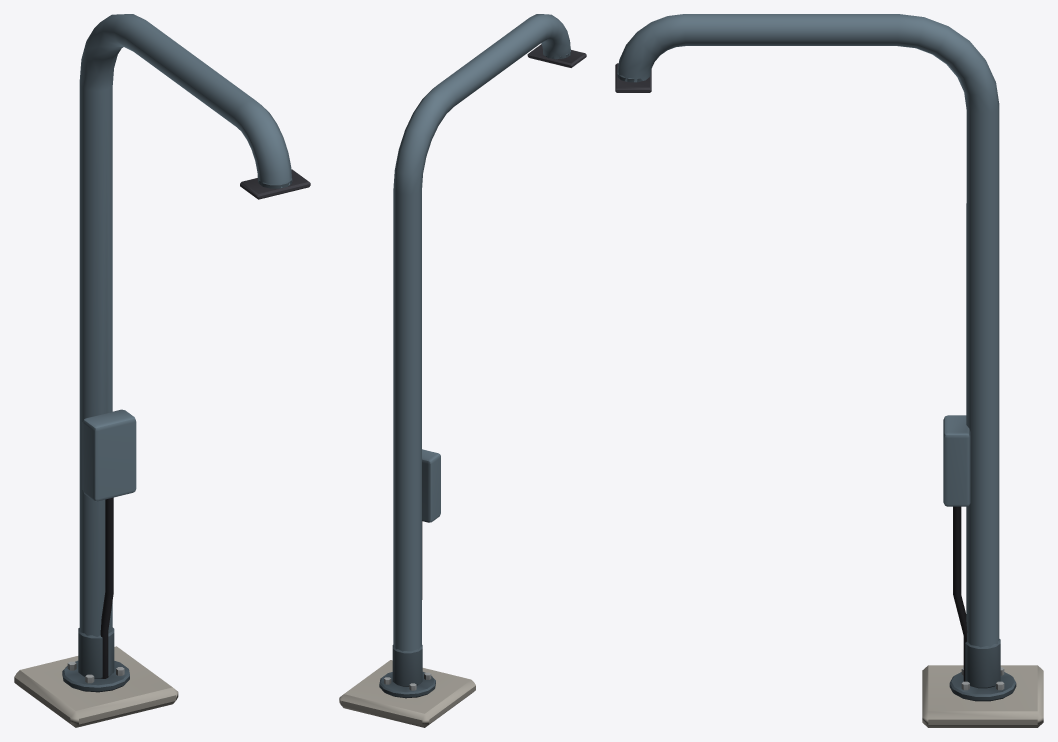
The model's file is IntercomPost.fbx.
3 renders of one model, left to right at view 1: azimuth 30°, elevation 25°; view 2: azimuth 150°, elevation 25°; view 3: azimuth 270°, elevation 25°, orthographic. The views are drawn at different scales.
Parts seen in each view (by area): view 1: IntercomPost; view 2: IntercomPost; view 3: IntercomPost.
Boxes of the visible parts, box(x1,y1,x2,y2) form: IntercomPost: box(14, 14, 310, 727); IntercomPost: box(339, 14, 586, 727); IntercomPost: box(615, 14, 1043, 727).
Size of the model in its own units: 0.4 by 2.5 by 1.41.
